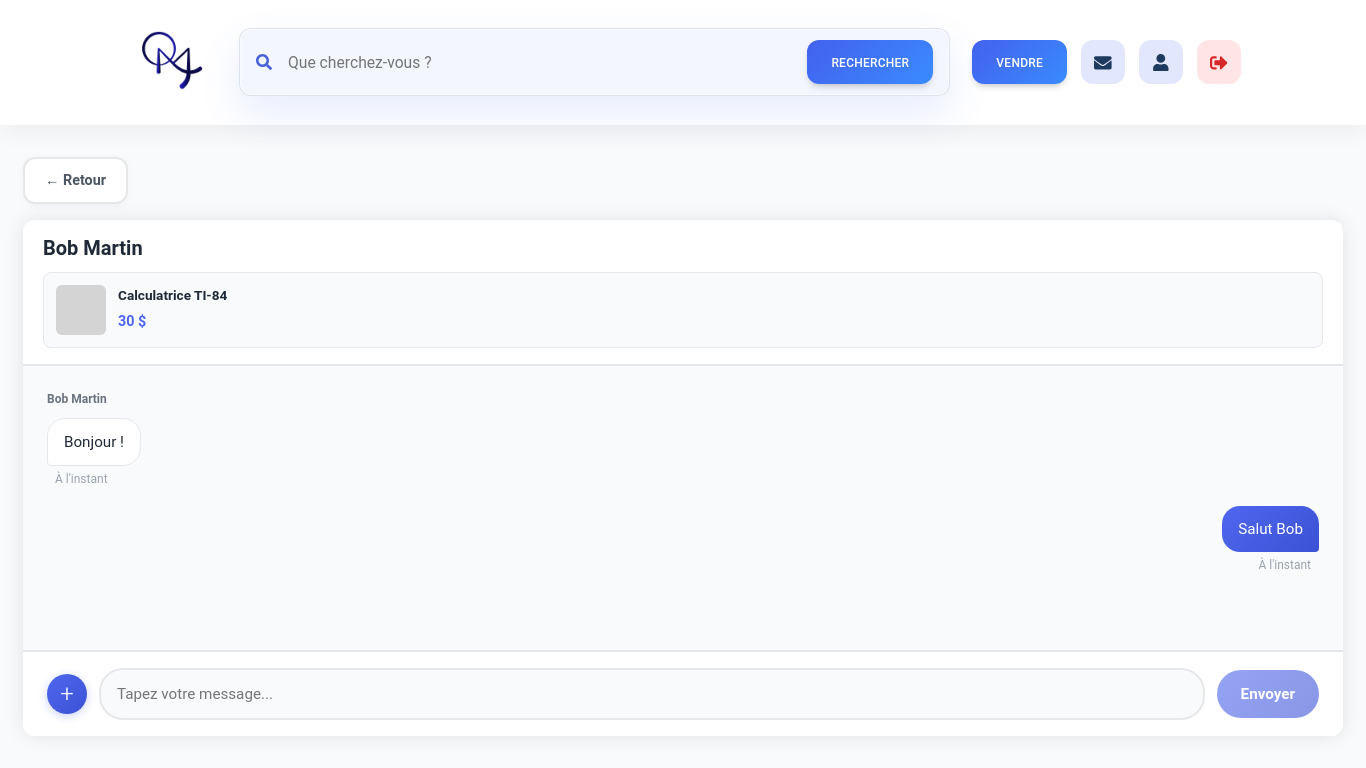
Test: Chat page › sends text message when clicking Envoyer
Expected: the heading "Bob Martin" is shown, 43,236 -> 143,260
In the field with placeholder "Tapez votre message...": (652, 694) 99,668 -> 1205,720, type "   Nouveau message   "
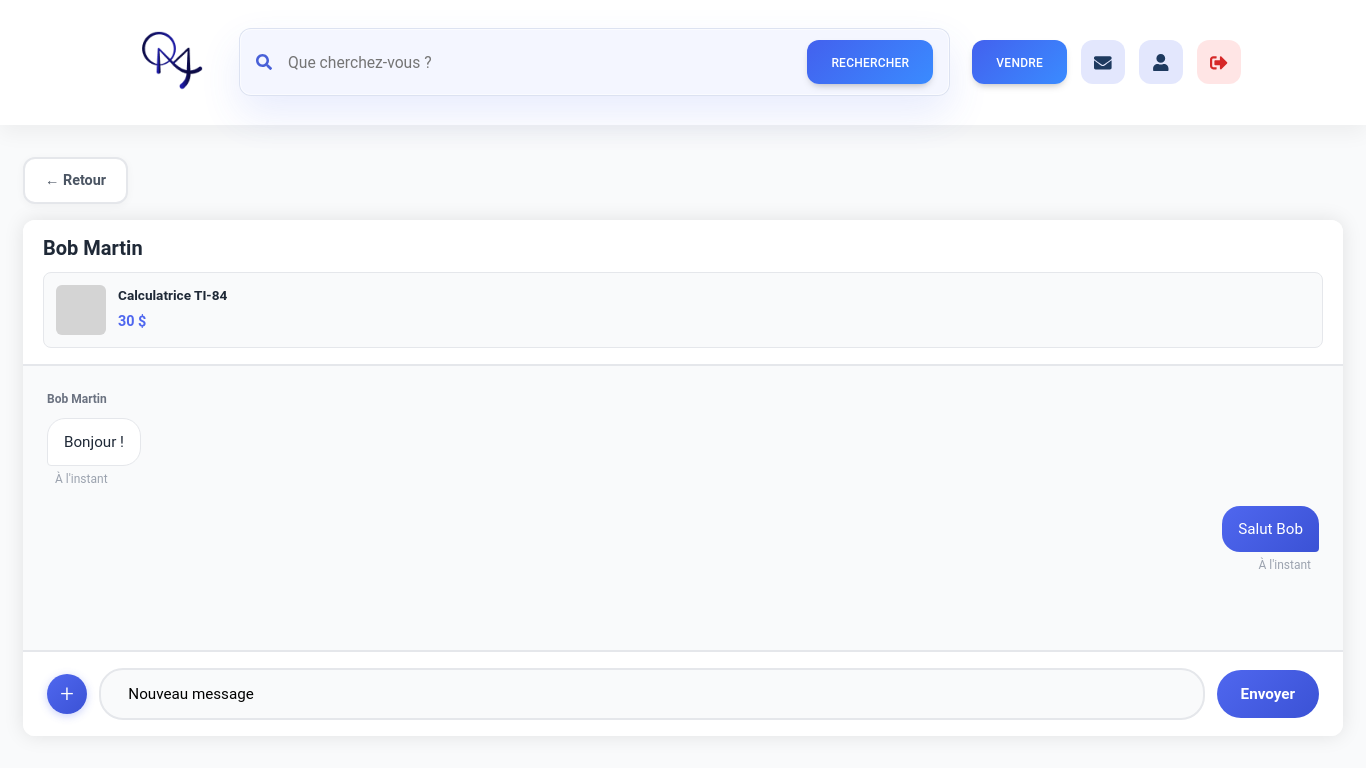
Click the button "Envoyer": (1268, 694) 1217,670 -> 1319,718
(page scrolled)
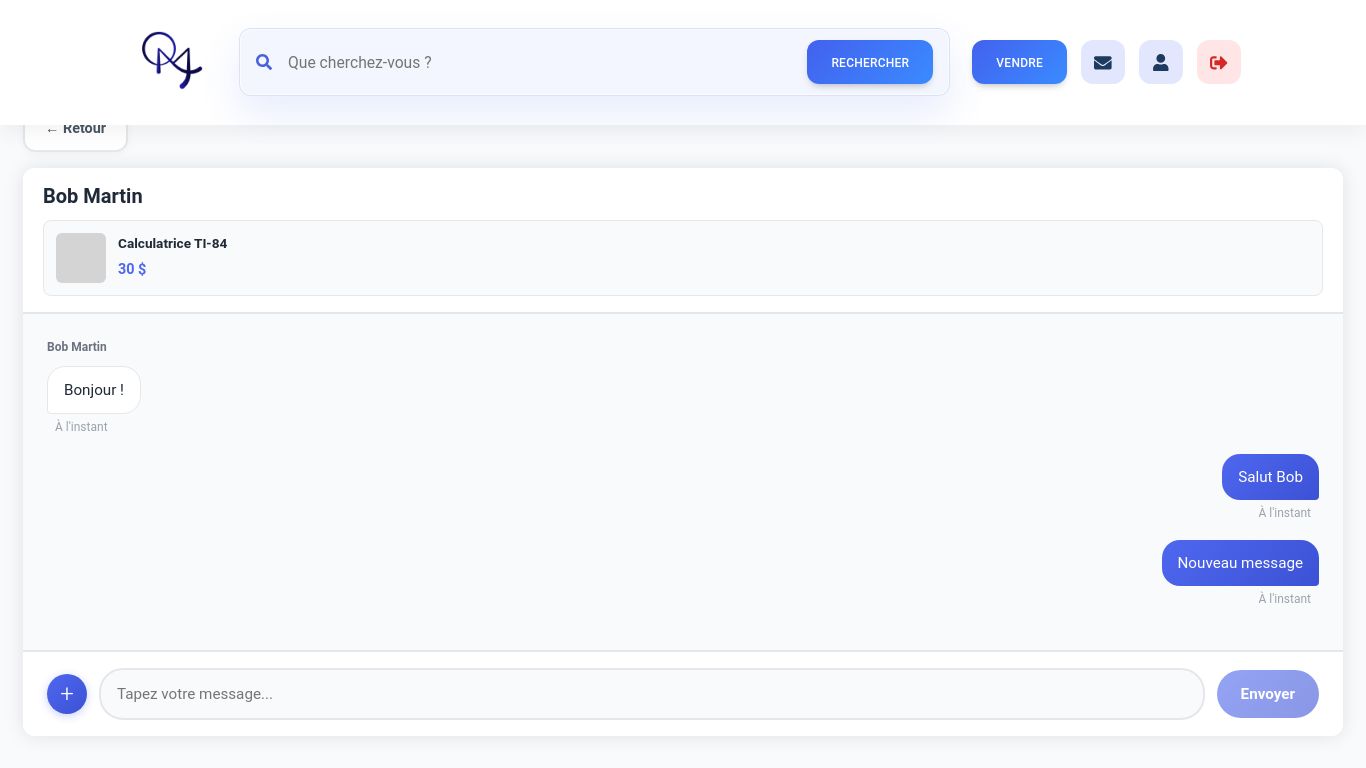
Expected: the text "Nouveau message" is shown, 1162,540 -> 1319,586
